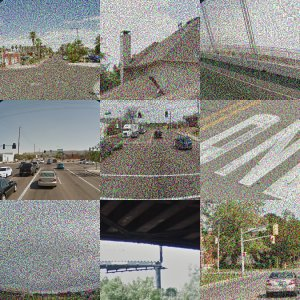消防栓: (204, 201, 292, 300), (44, 34, 81, 99), (136, 138, 163, 193)
紅綠燈: (133, 201, 196, 300), (18, 201, 32, 221), (38, 225, 53, 243), (84, 232, 96, 248)
腳踏車: (107, 11, 160, 100)
